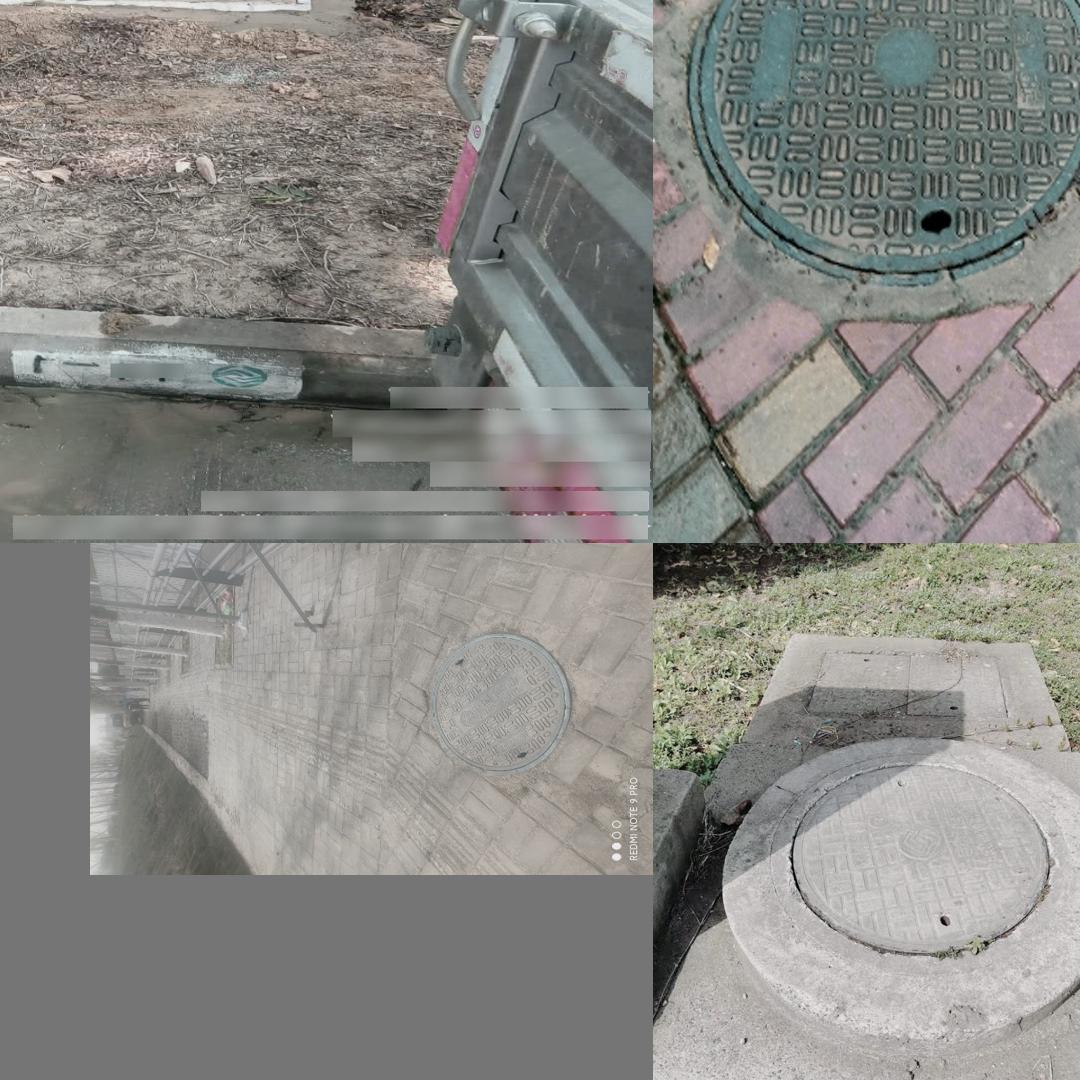good: (682, 0, 1080, 286), (771, 754, 1066, 971), (431, 633, 572, 774), (805, 648, 1019, 722), (0, 0, 310, 12)
